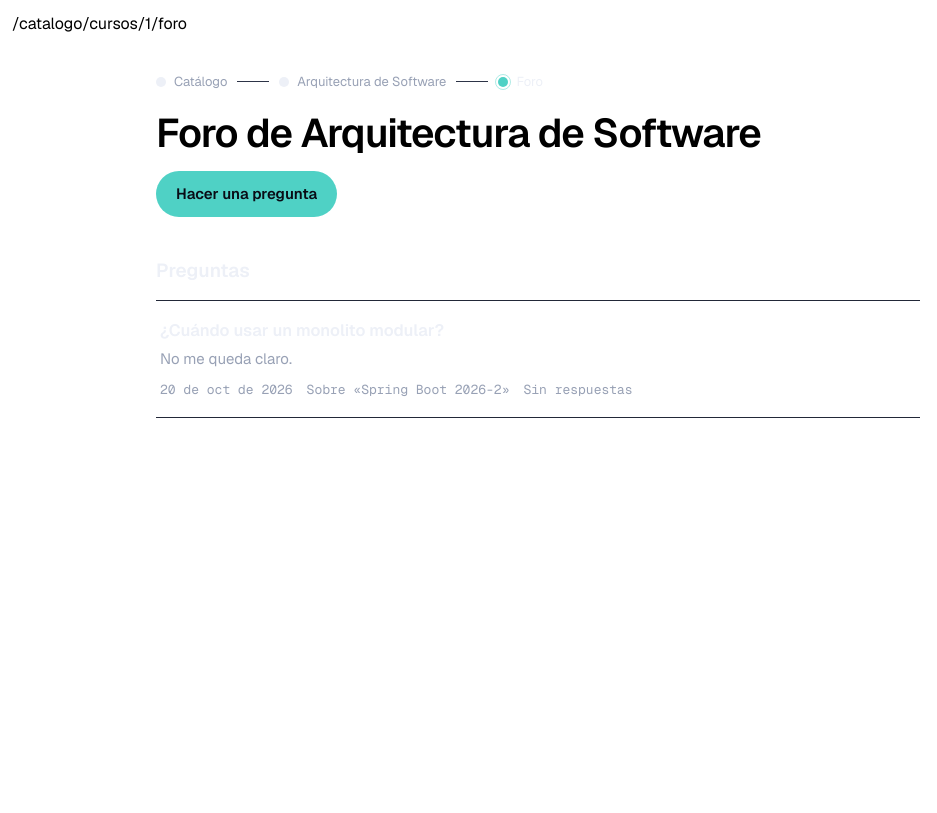
Test case: ForumPage › si el envío agota el tiempo pide comprobar el foro sin perder lo escrito
Click the button "Hacer una pregunta": (247, 194) [156,171,337,217]
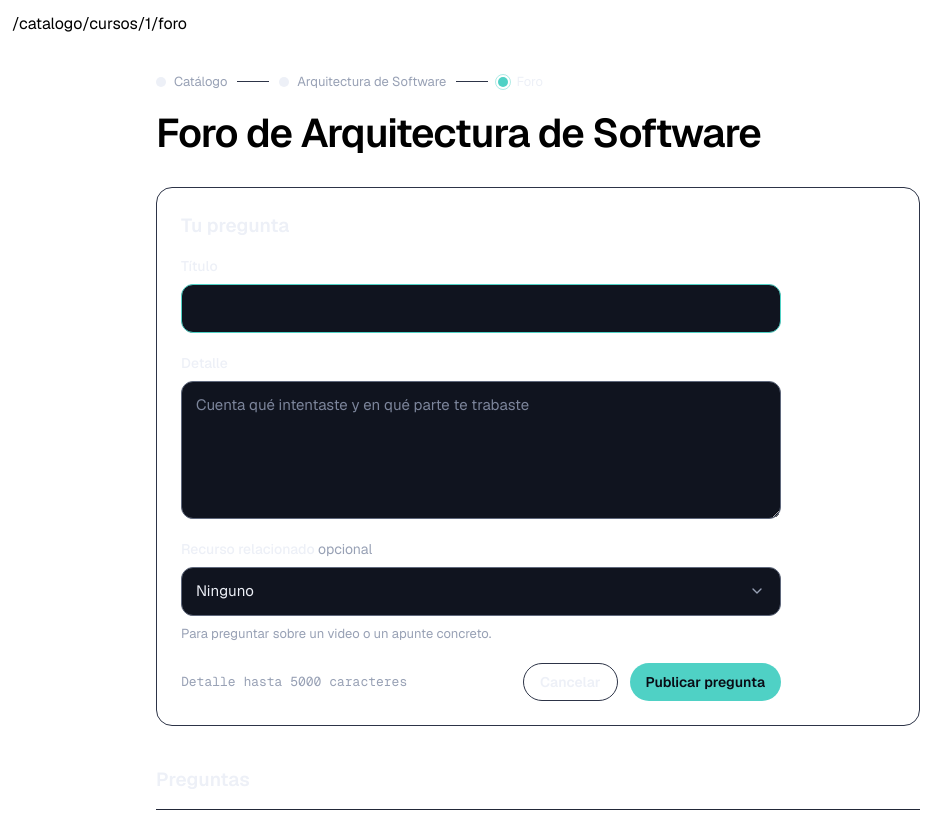
In the field labelled "Título": (481, 308) [181,284,781,333], type "T"
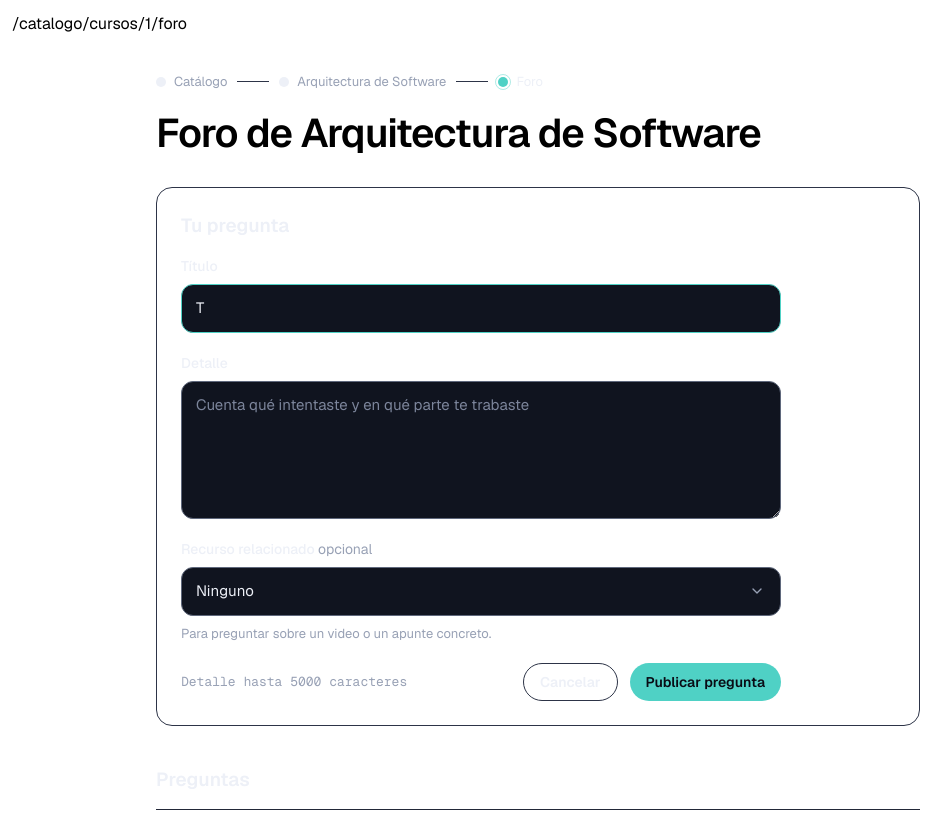
In the text box labelled "Detalle": (481, 450) [181,381,781,519], type "D"
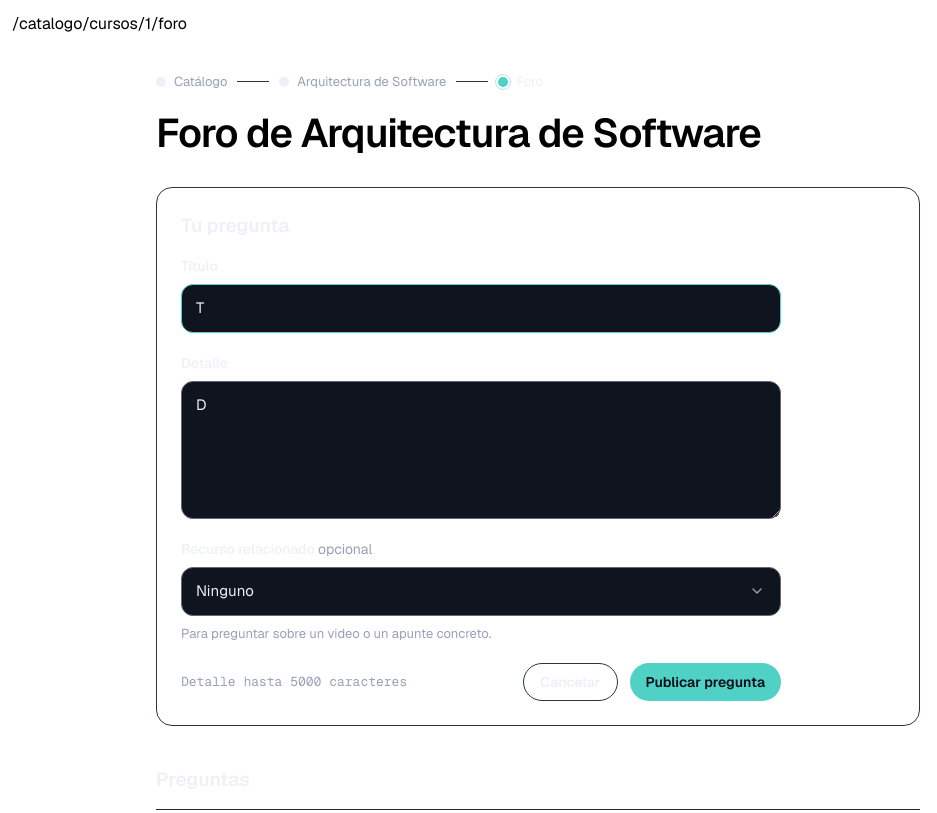
Click the button "Publicar pregunta": (705, 682) [630,663,781,701]
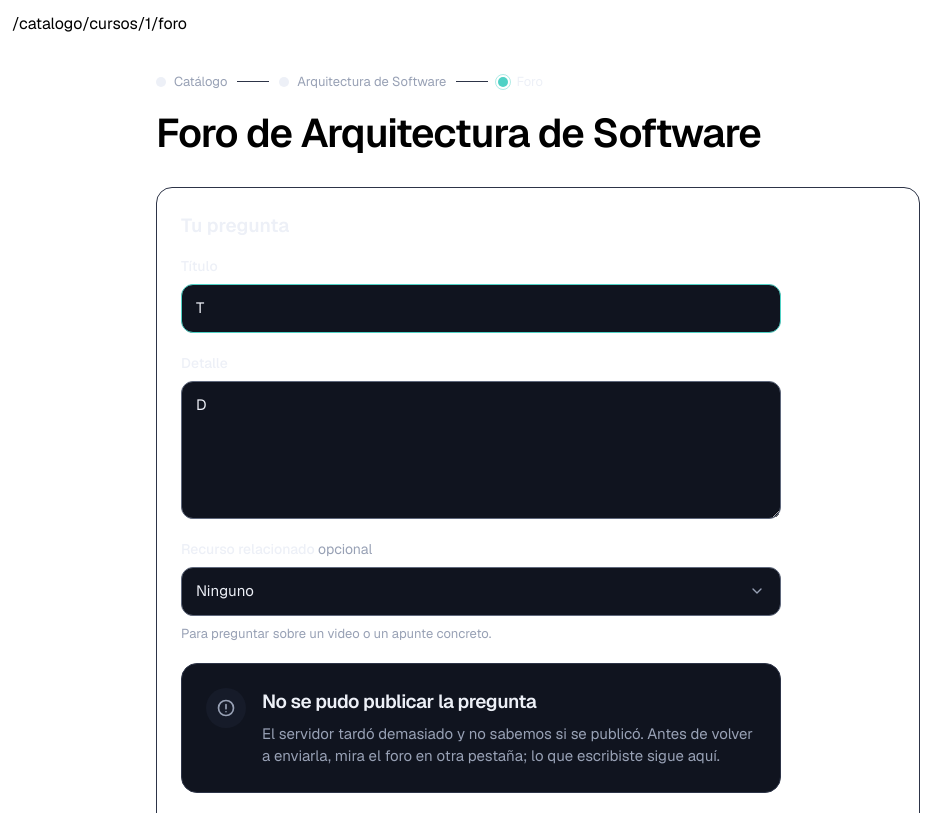
Result: the message shows "mira el foro en otra pestaña" at [262,724,753,765]
